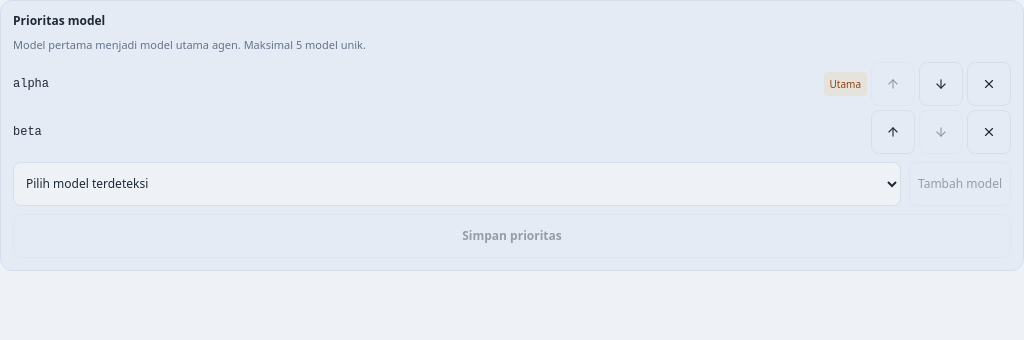
Test: ModelPriorityEditor › does not claim success after read failure
Expected: the text "alpha" is shown, [13, 76, 49, 90]
Click the button named "Naikkan beta": (893, 132) [871, 110, 915, 154]
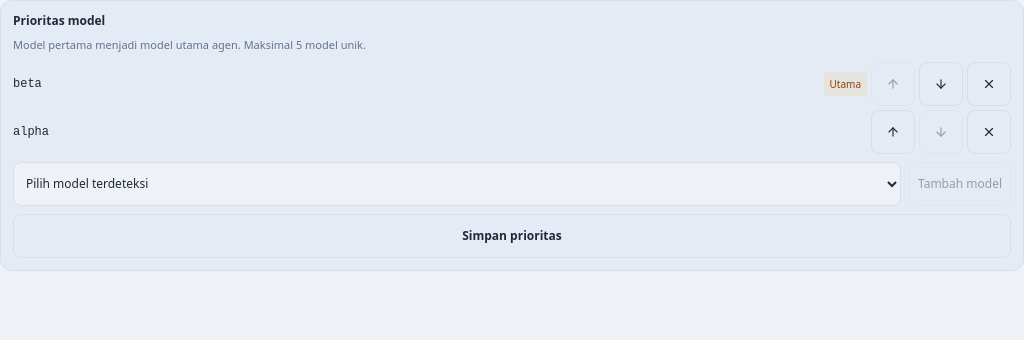
Click the button "Simpan prioritas": (512, 236) [13, 214, 1011, 258]
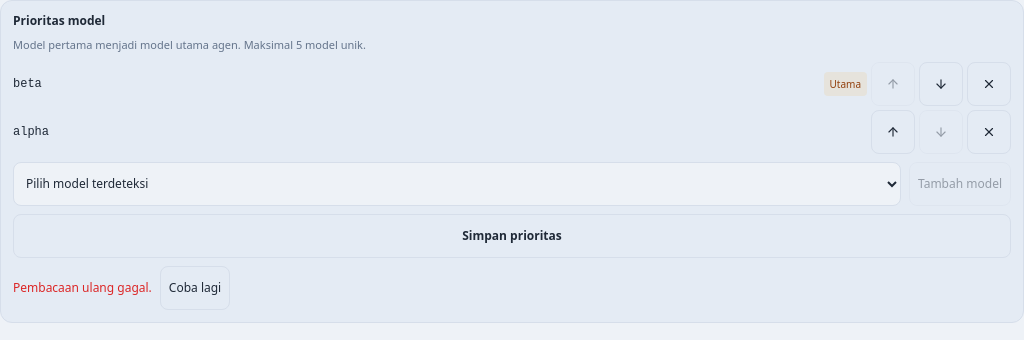
Now the button "Simpan prioritas" is enabled, box [13, 214, 1011, 258]
Now the message "Pembacaan ulang gagal. Coba lagi" is shown, box [13, 266, 230, 310]
